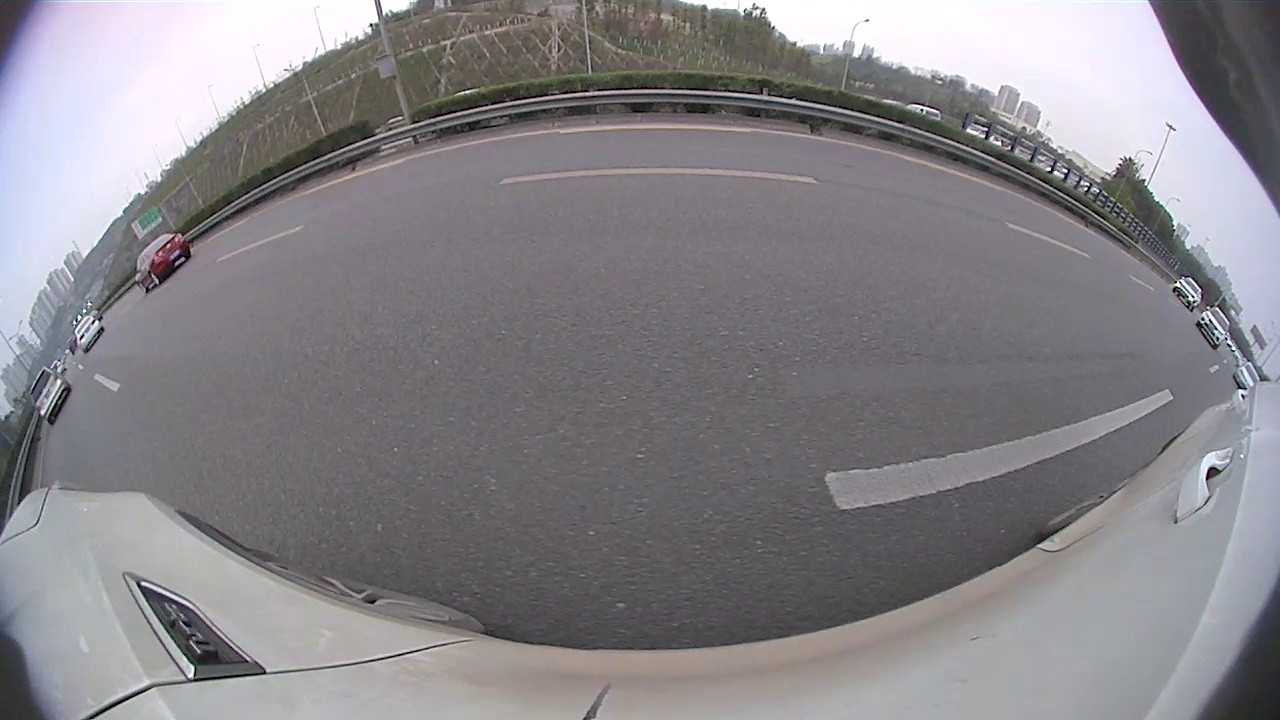bus: (813, 125, 1035, 231)
car: (1, 167, 412, 498), (1055, 249, 1279, 446), (583, 115, 769, 245), (982, 195, 1187, 280), (768, 149, 877, 220), (448, 153, 557, 219), (545, 155, 587, 192)
front: (1091, 305, 1170, 396), (362, 217, 405, 282), (988, 231, 1012, 259)
rear: (54, 359, 173, 492), (903, 191, 926, 220), (785, 184, 801, 214), (523, 183, 537, 215)
